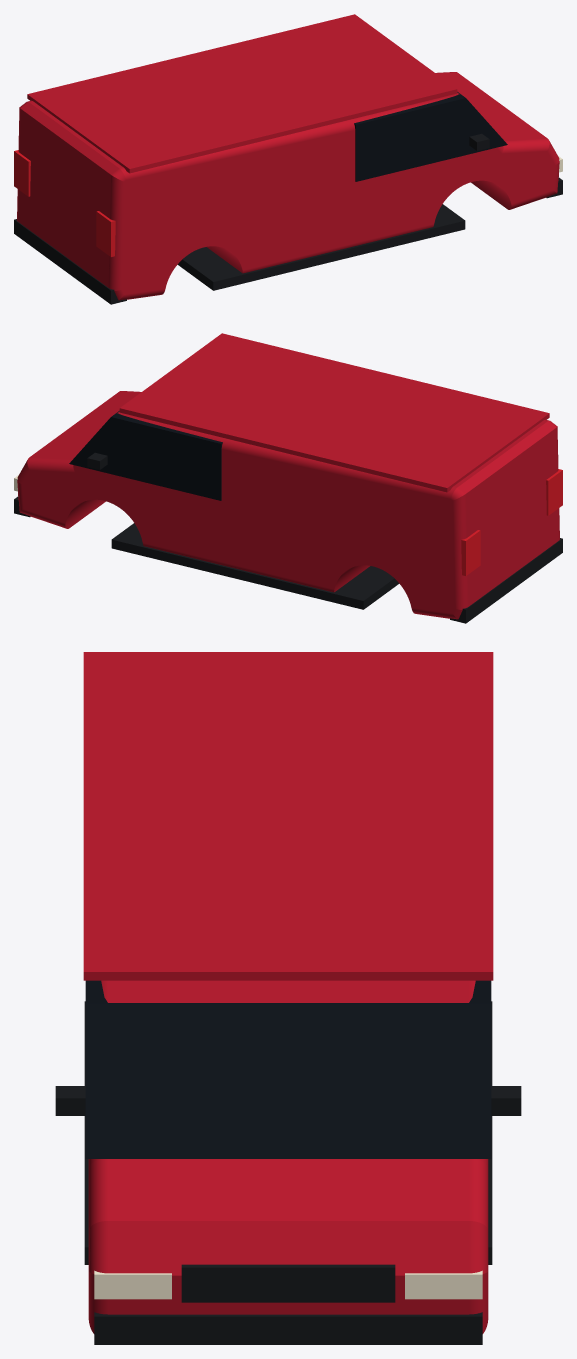
Rendered from van.glb.
The picture shows the model from 3 angles, top to bottom: view 1: azimuth 30°, elevation 25°; view 2: azimuth 150°, elevation 25°; view 3: azimuth 270°, elevation 25°; orthographic projection. The views are drawn at different scales.
Parts seen in each view (by area): view 1: Body, Roof, Glass, Trim3, Trim2, Tail1, Tail0; view 2: Body, Roof, Glass, Trim3, Trim2, Tail0, Tail1; view 3: Roof, Glass, Body, Trim0, Trim1, Head0, Head1, Trim3, Trim4, Trim5.
Boxes of the visible parts, bbox=[...] form: Body: bbox=[17, 72, 559, 300]; Roof: bbox=[27, 14, 457, 173]; Glass: bbox=[354, 92, 507, 181]; Trim3: bbox=[177, 204, 465, 290]; Trim2: bbox=[14, 219, 126, 304]; Tail1: bbox=[96, 211, 115, 256]; Tail0: bbox=[14, 150, 30, 196]; Body: bbox=[17, 391, 559, 619]; Roof: bbox=[119, 333, 549, 492]; Glass: bbox=[69, 411, 222, 500]; Trim3: bbox=[111, 523, 399, 609]; Trim2: bbox=[450, 538, 562, 623]; Tail0: bbox=[461, 530, 480, 575]; Tail1: bbox=[546, 469, 562, 515]; Roof: bbox=[83, 652, 493, 980]; Glass: bbox=[85, 980, 491, 1158]; Body: bbox=[88, 980, 488, 1333]; Trim0: bbox=[94, 1312, 482, 1344]; Trim1: bbox=[181, 1264, 395, 1302]; Head0: bbox=[405, 1270, 482, 1299]; Head1: bbox=[94, 1270, 171, 1299]; Trim3: bbox=[84, 1001, 492, 1264]; Trim4: bbox=[491, 1086, 521, 1115]; Trim5: bbox=[55, 1086, 85, 1115].
Bounding box in the file's own units: 5.38 × 1.62 × 2.4.
